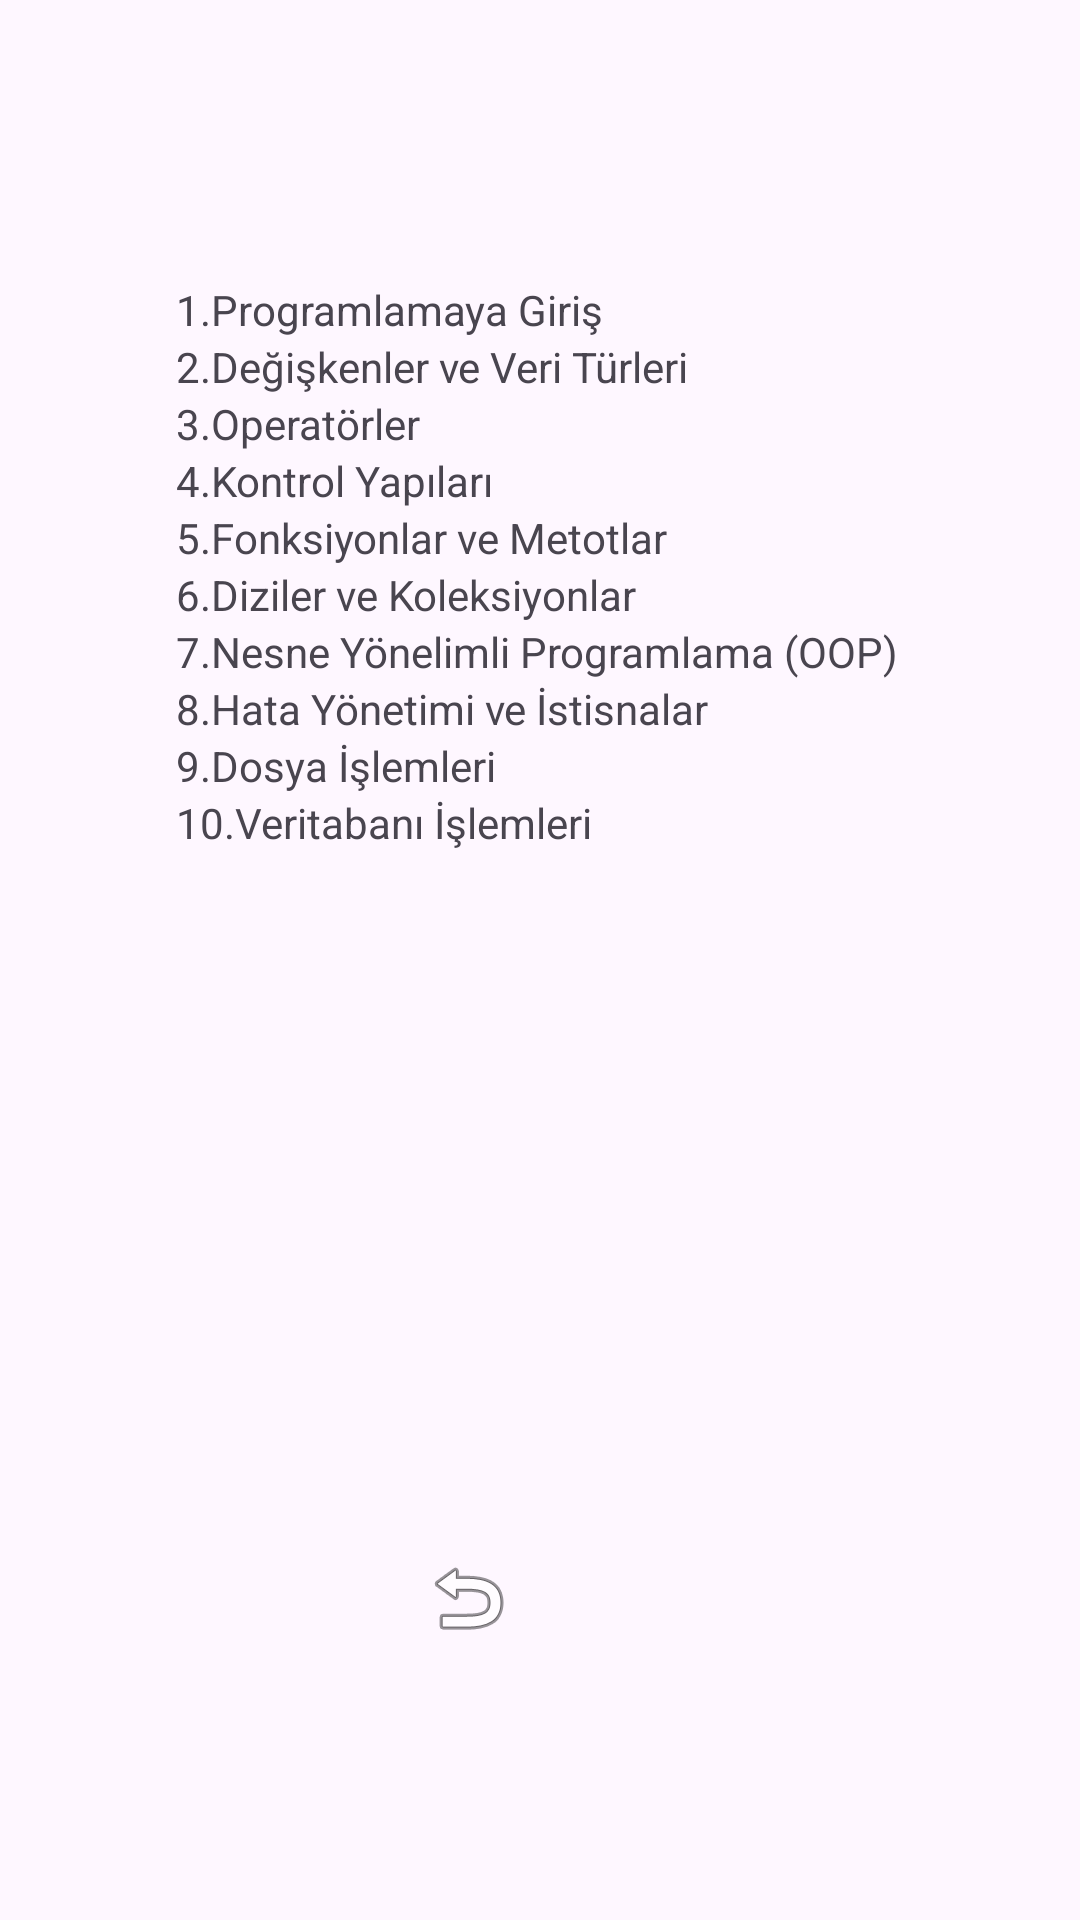

Point at icon controls on the screen. Image size 1080px×1920px, points as (x=x, y=y).
revert: (x=469, y=1598)
